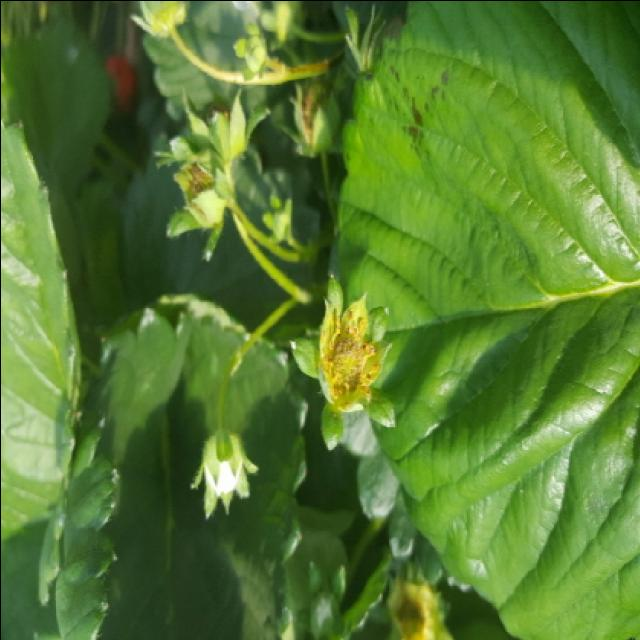Blossom Blight: (313, 300, 387, 412)
